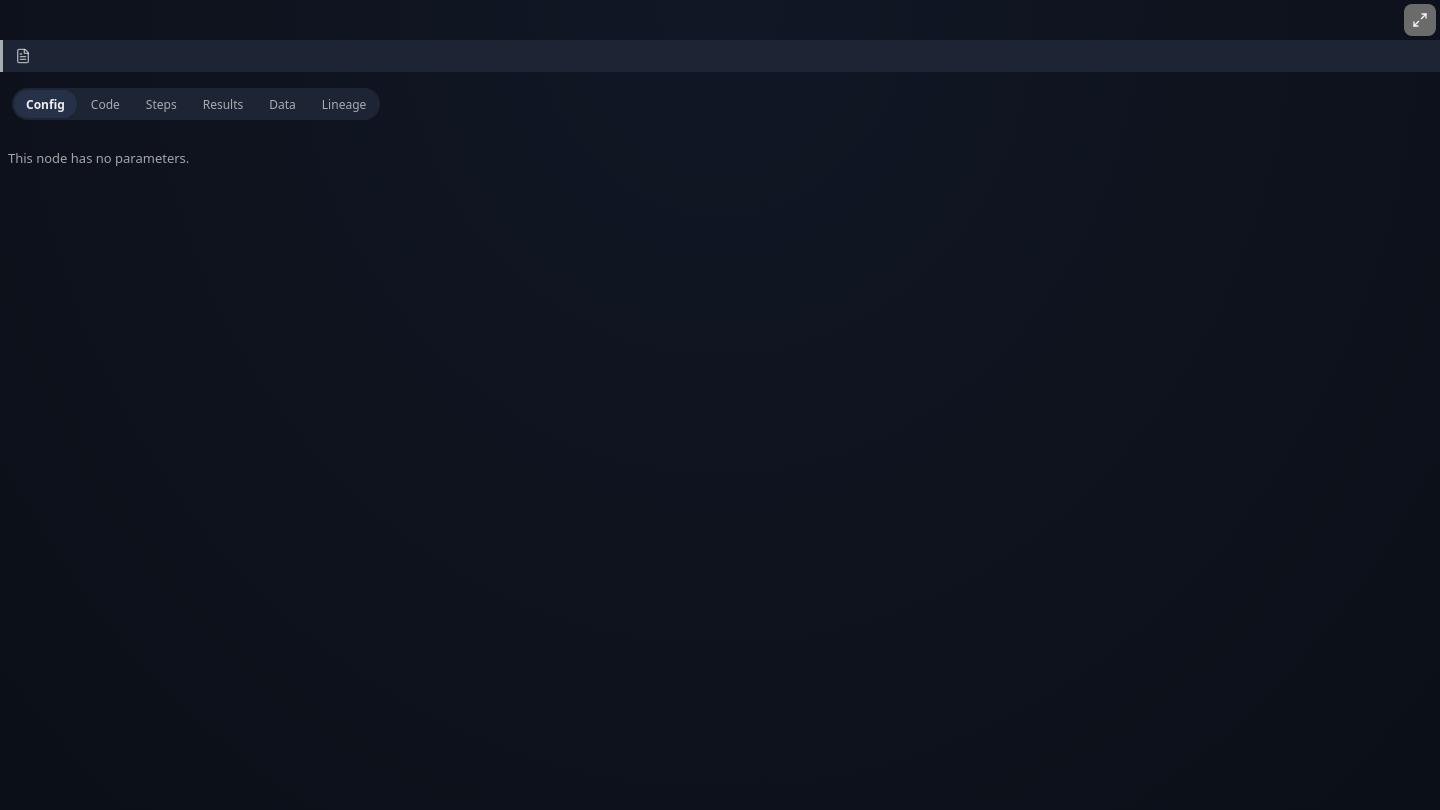
Test: Clicking the X button in expanded modal closes it
Click the button with test id "inspector-expand-btn".
click(1420, 20)  # box [1404, 4, 1436, 36]
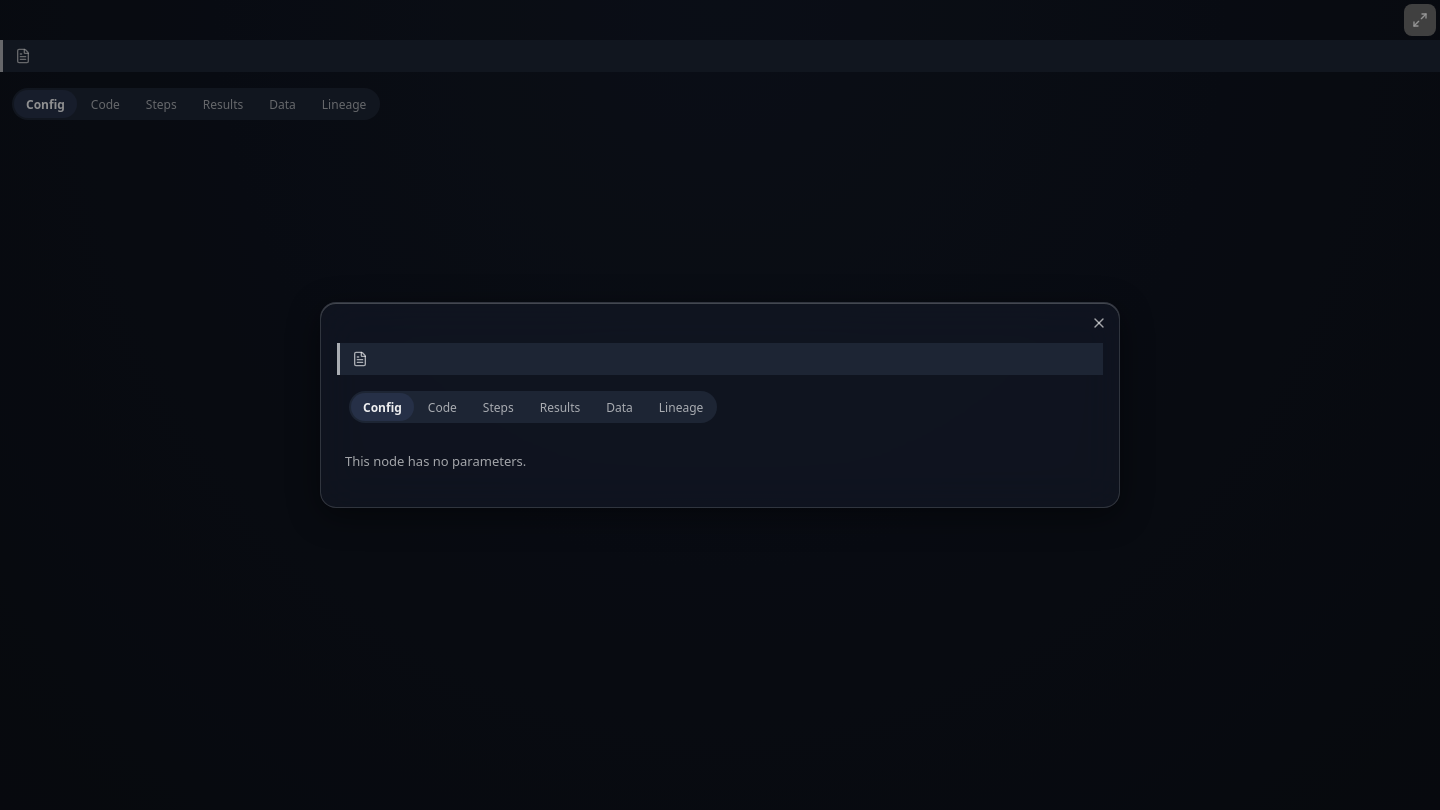
Expected: the button with test id "overlay-modal-close" is shown
Click the button with test id "overlay-modal-close".
click(1099, 323)  # box [1087, 311, 1111, 335]
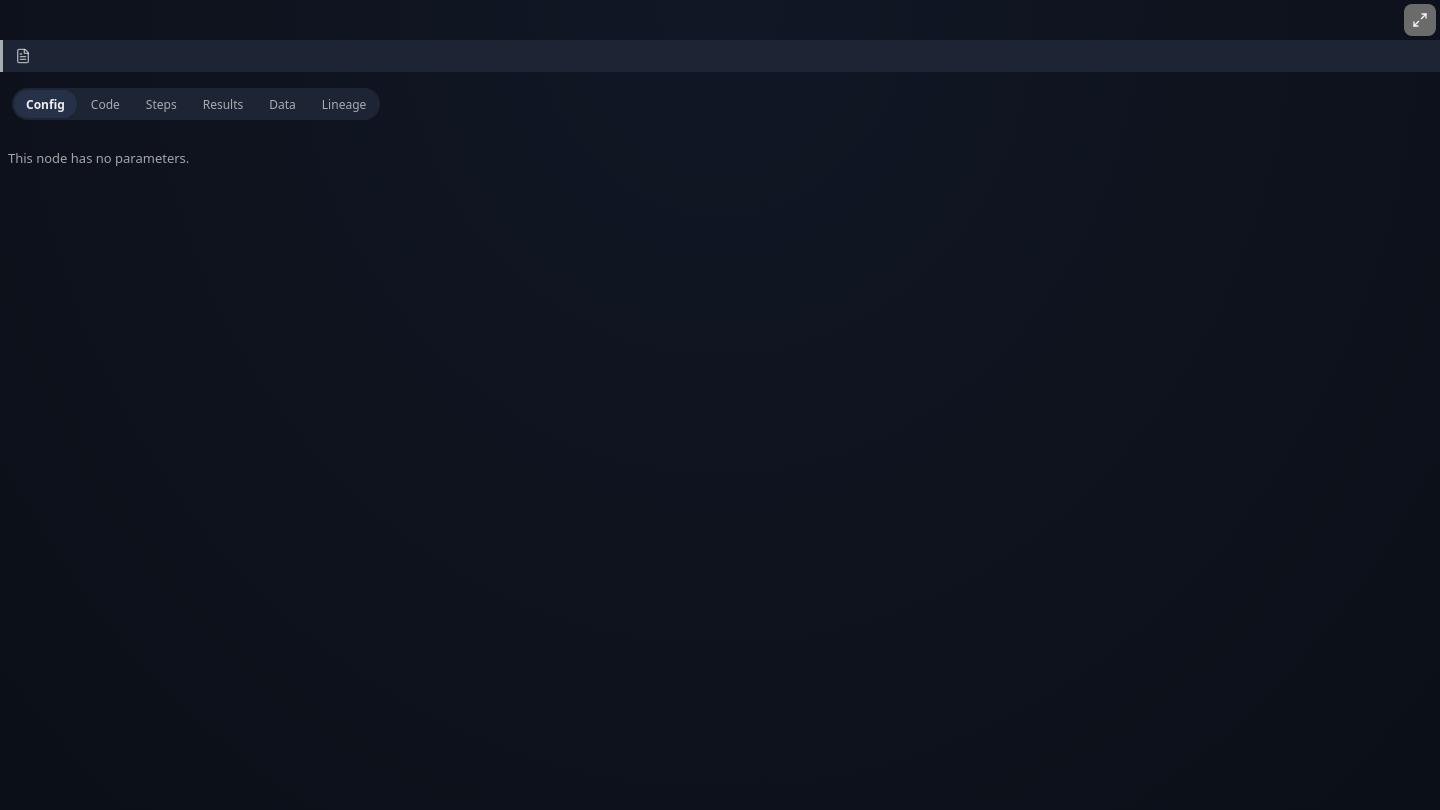
Expected: the button with test id "overlay-modal-close" is gone
